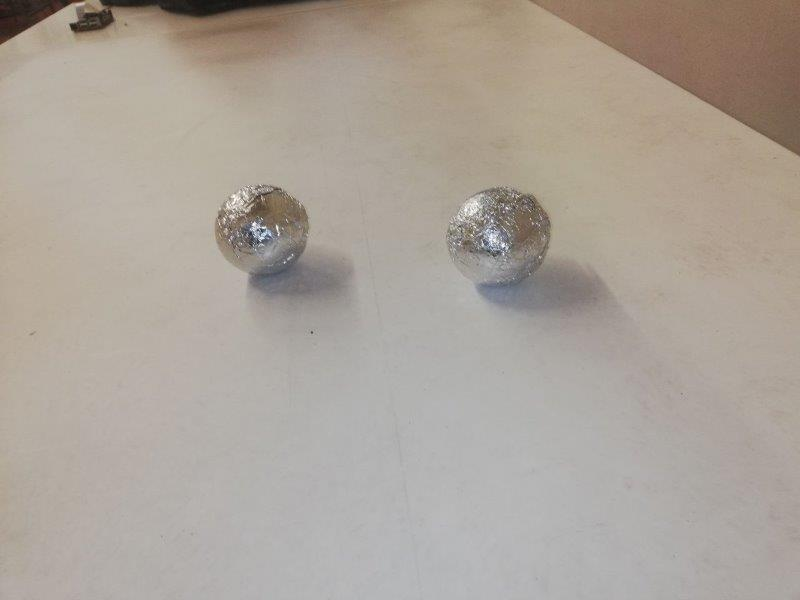bianca: (442, 189, 551, 285), (212, 182, 311, 274)
